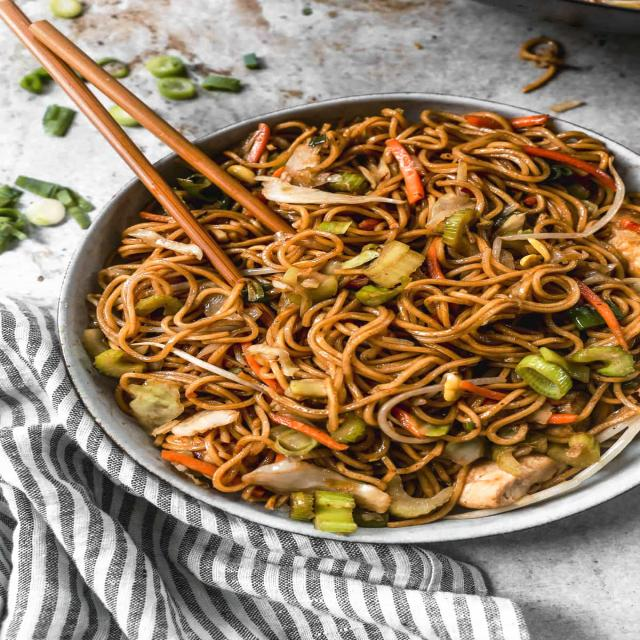Chow Mein: (92, 111, 640, 532)
